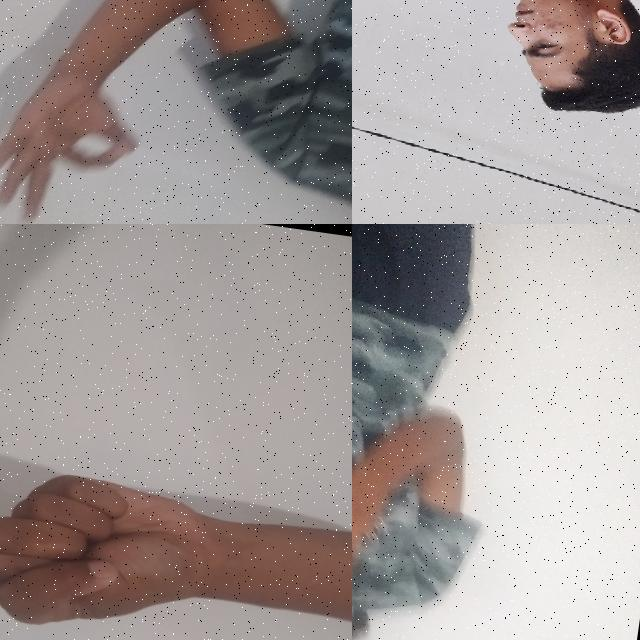Chin Flick: (445, 0, 640, 140)
Dulya: (0, 446, 225, 640)
Okay: (0, 39, 156, 224)
Reversed Victory: (352, 445, 385, 593)
